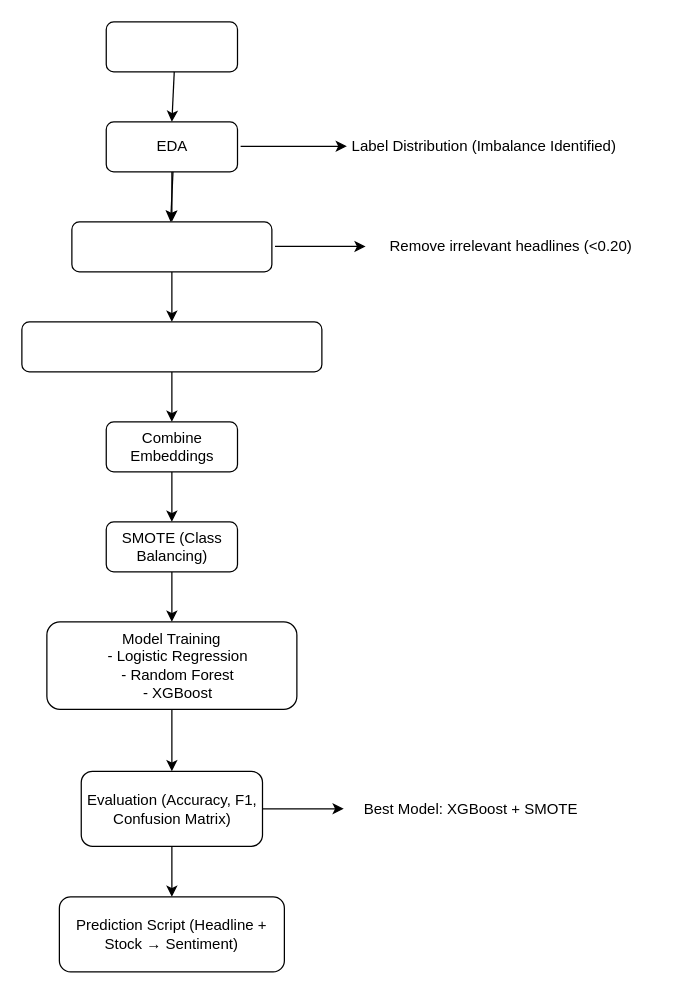
Image size: 678x994. Some labels were removed from this diagram. The centre of each missing label's shape, as x and y in pixels:
DATASET: pixel 171 46
FinBERT Embeddings (Headlines) Label Encoding (Stock Name): pixel 171 346
Zero-Shot Classification (BART-large-MNLI): pixel 171 246
